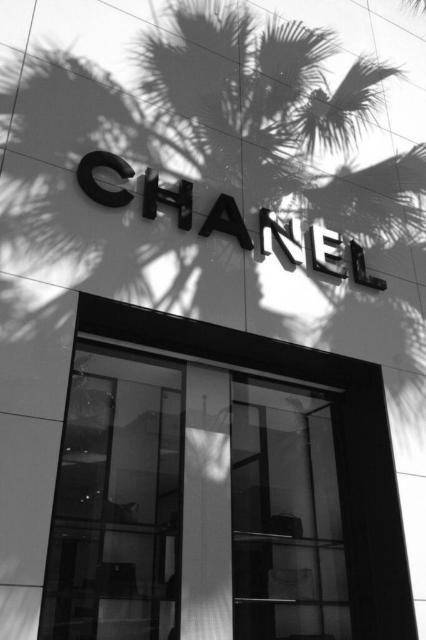Chanel: (59, 132, 396, 300)
